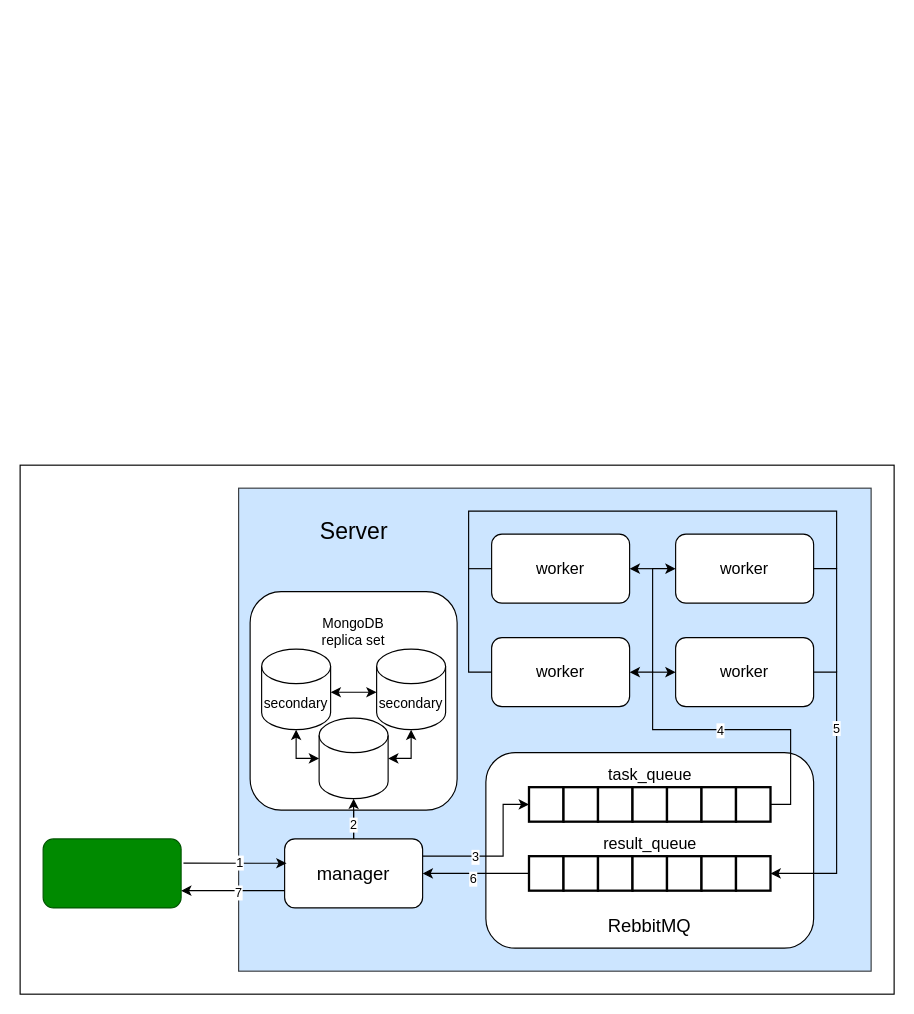
Some shapes in this 914 by 1014 pixel diagram are drawn without their labels. The shapes that lost their labels are listed below. From the top down, each one's centre as x and y in pixels, then its label:
At [353,758]: "primary".
At [111,873]: "client".
